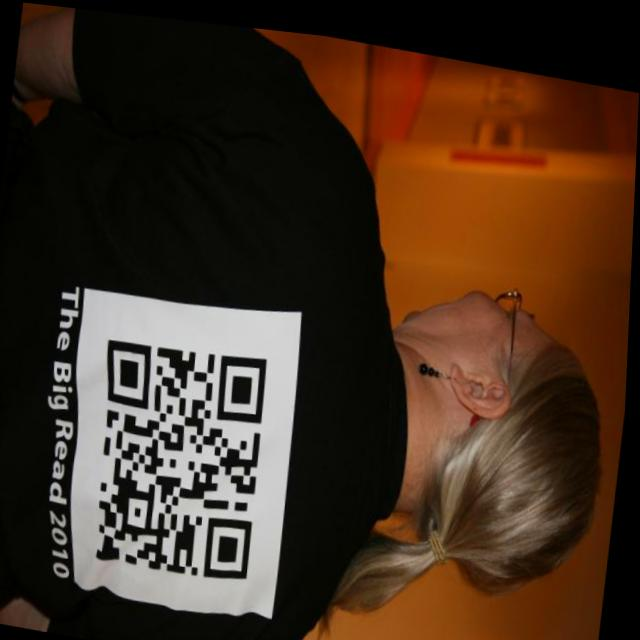qrcode: (88, 326, 274, 580)
